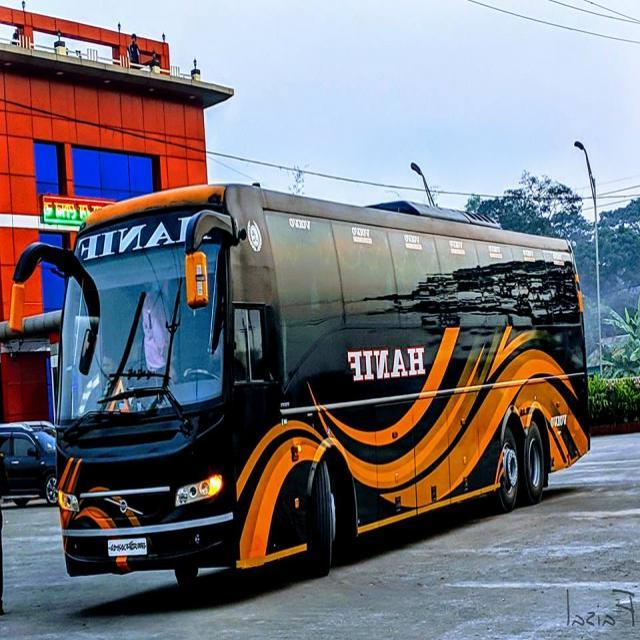Bus: (7, 185, 592, 604)
